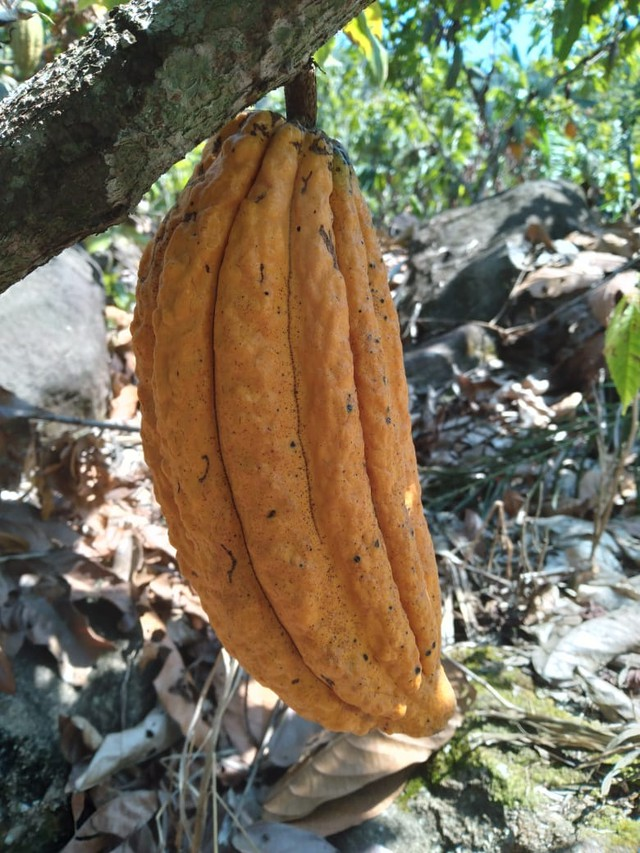Health: (124, 91, 470, 747)
